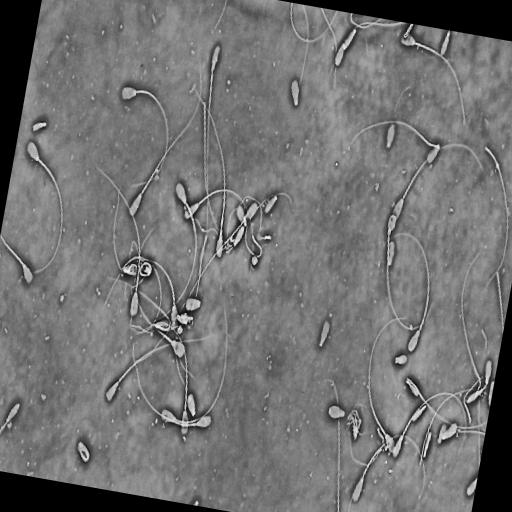coiled-tail: (78, 443, 88, 459), (79, 446, 86, 454)
dirt-particles: (138, 261, 153, 279)
folded-tail: (406, 377, 485, 428), (351, 121, 438, 147)
loose-head: (317, 317, 332, 350), (29, 113, 49, 135), (230, 224, 245, 250), (262, 192, 278, 216), (384, 121, 396, 151), (326, 402, 346, 420), (441, 422, 458, 442), (289, 76, 299, 108), (186, 390, 197, 419), (184, 296, 201, 314), (483, 356, 493, 386), (387, 238, 396, 267), (393, 352, 410, 367)
loose-tail: (418, 386, 491, 468), (177, 232, 208, 381), (482, 141, 510, 286), (459, 244, 483, 401), (244, 191, 293, 258), (202, 100, 221, 238), (291, 4, 311, 113), (319, 7, 338, 87)
normal: (128, 58, 202, 218), (174, 199, 258, 321), (389, 139, 487, 224), (159, 303, 227, 424), (103, 333, 215, 404), (132, 341, 211, 429), (95, 166, 141, 317), (151, 181, 197, 325), (398, 31, 466, 126), (183, 187, 254, 273), (385, 212, 434, 333), (382, 232, 430, 352), (366, 314, 407, 454), (194, 90, 226, 259), (350, 433, 426, 504), (24, 140, 63, 276), (391, 391, 466, 459), (119, 84, 168, 188), (404, 375, 487, 429), (348, 118, 440, 165), (156, 320, 189, 438), (204, 40, 222, 231), (111, 185, 138, 277), (0, 400, 21, 434), (76, 438, 90, 465)
proximal-droplet: (193, 422, 196, 426)
